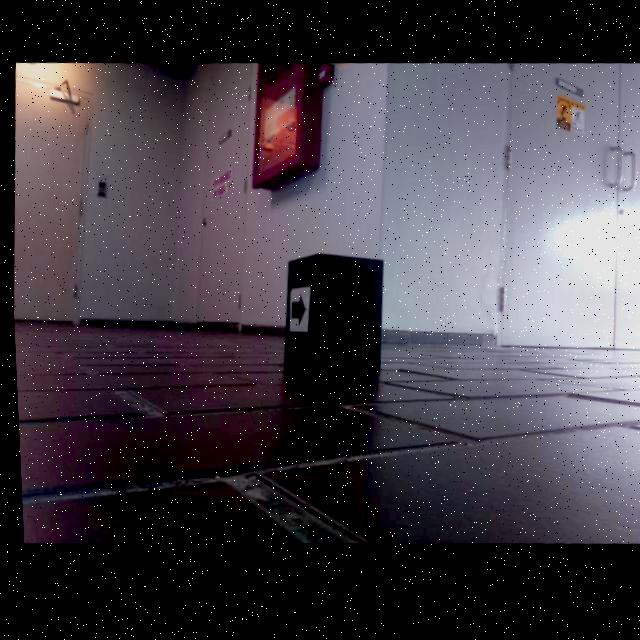RIGHT: (288, 295, 304, 331)
